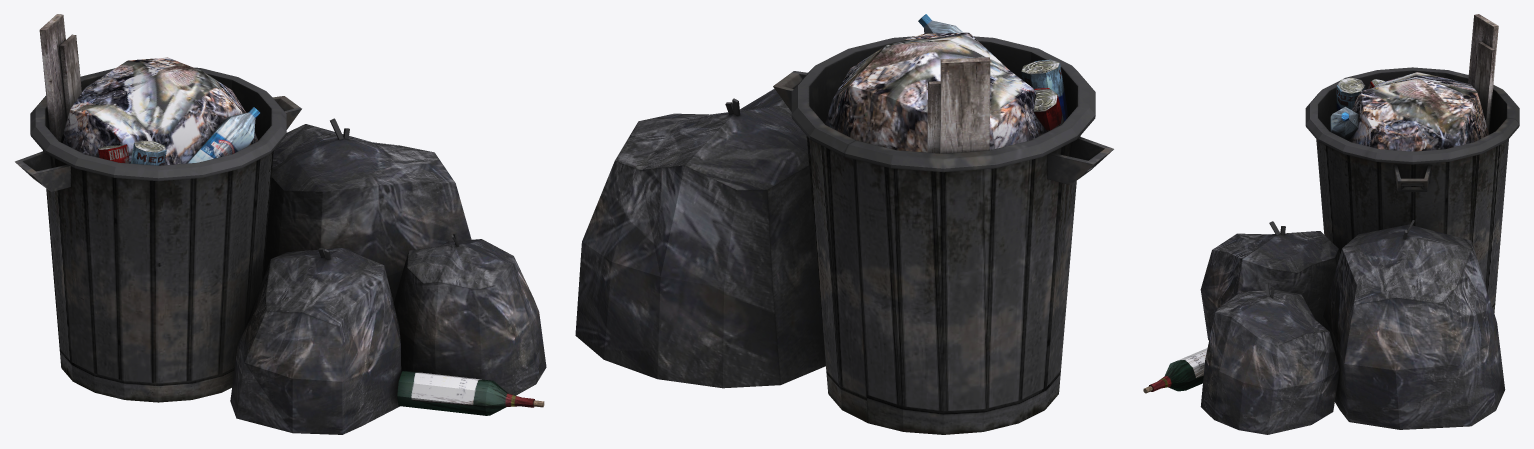
The model's file is Trash_3,1.fbx.
The picture shows the model from 3 angles, left to right: view 1: azimuth 30°, elevation 25°; view 2: azimuth 150°, elevation 25°; view 3: azimuth 270°, elevation 25°; orthographic projection. The views are drawn at different scales.
Visible parts, largest first — view 1: trash_003_LOD0; view 2: trash_003_LOD0; view 3: trash_003_LOD0.
Boxes of the visible parts, bbox=[...] form: trash_003_LOD0: bbox=[15, 14, 546, 434]; trash_003_LOD0: bbox=[575, 14, 1113, 434]; trash_003_LOD0: bbox=[1143, 14, 1519, 434].
Size of what is drawn, in the model's own units: 155 by 111 by 140.
